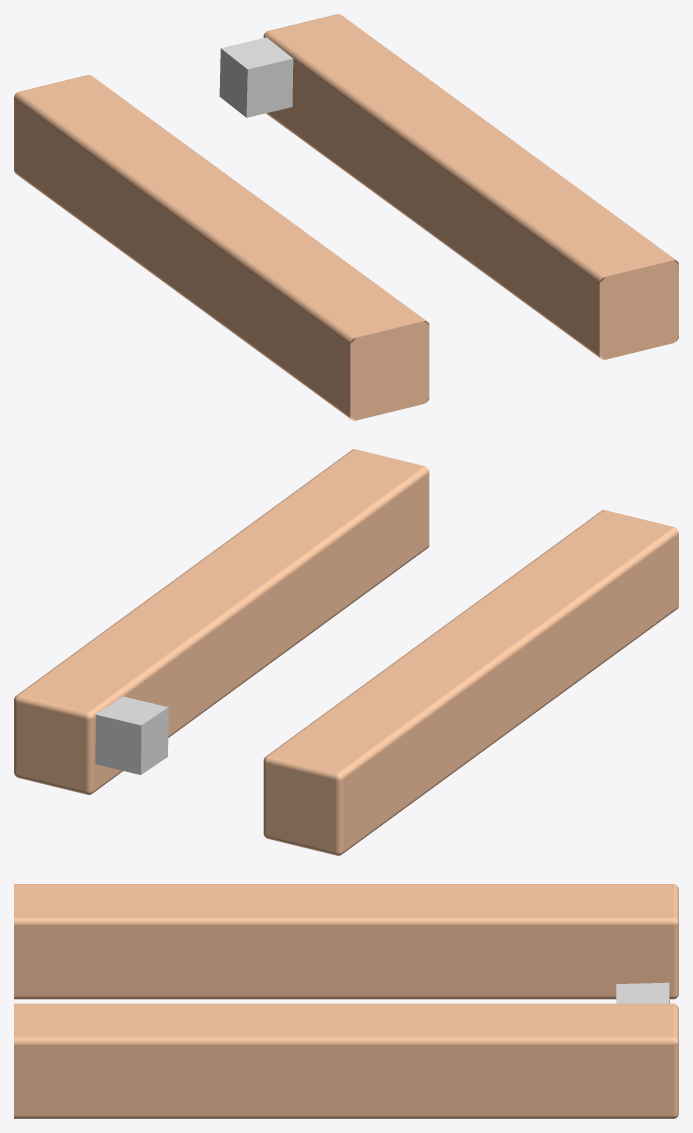
Rendered from Pickup.fbx.
The picture shows the model from 3 angles, top to bottom: view 1: azimuth 30°, elevation 25°; view 2: azimuth 150°, elevation 25°; view 3: azimuth 270°, elevation 25°; orthographic projection.
Parts seen in each view (by area): view 1: Left Arm, Right Arm, Cube; view 2: Left Arm, Right Arm, Cube; view 3: Right Arm, Left Arm, Cube.
Boxes of the visible parts, <box> form: Left Arm: <box>14,75,429,420</box>; Right Arm: <box>263,14,678,359</box>; Cube: <box>219,37,293,117</box>; Left Arm: <box>263,510,678,855</box>; Right Arm: <box>14,449,429,794</box>; Cube: <box>95,696,168,774</box>; Right Arm: <box>14,1003,678,1118</box>; Left Arm: <box>14,884,678,999</box>; Cube: <box>616,982,669,1003</box>.
Bounding box in the file's own units: 87.78 × 21.15 × 157.
